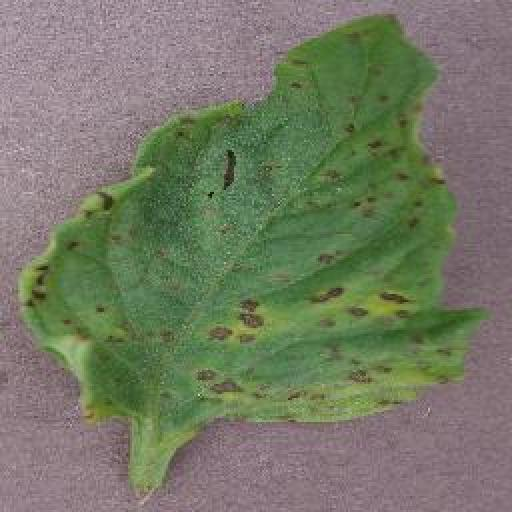Septoria: (20, 12, 487, 427)
